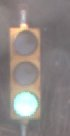Green: (5, 23, 47, 136)
